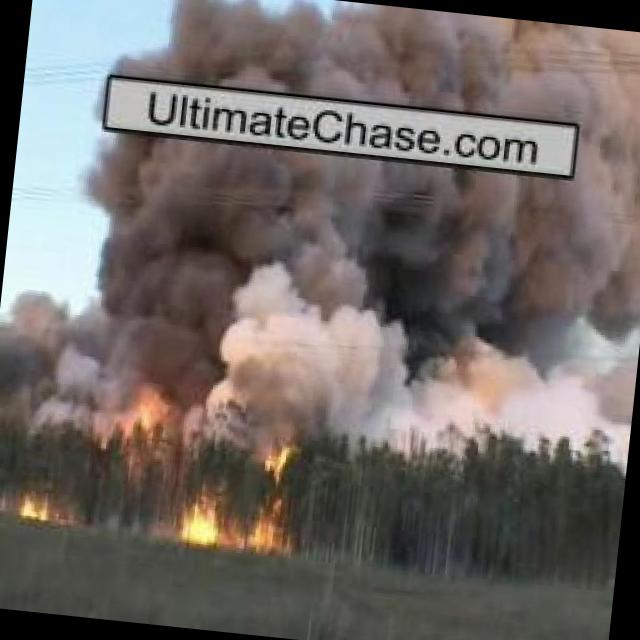Fire: (177, 441, 302, 556), (118, 367, 174, 452), (21, 494, 63, 521)
Smoke: (60, 122, 640, 469), (109, 0, 640, 130)
